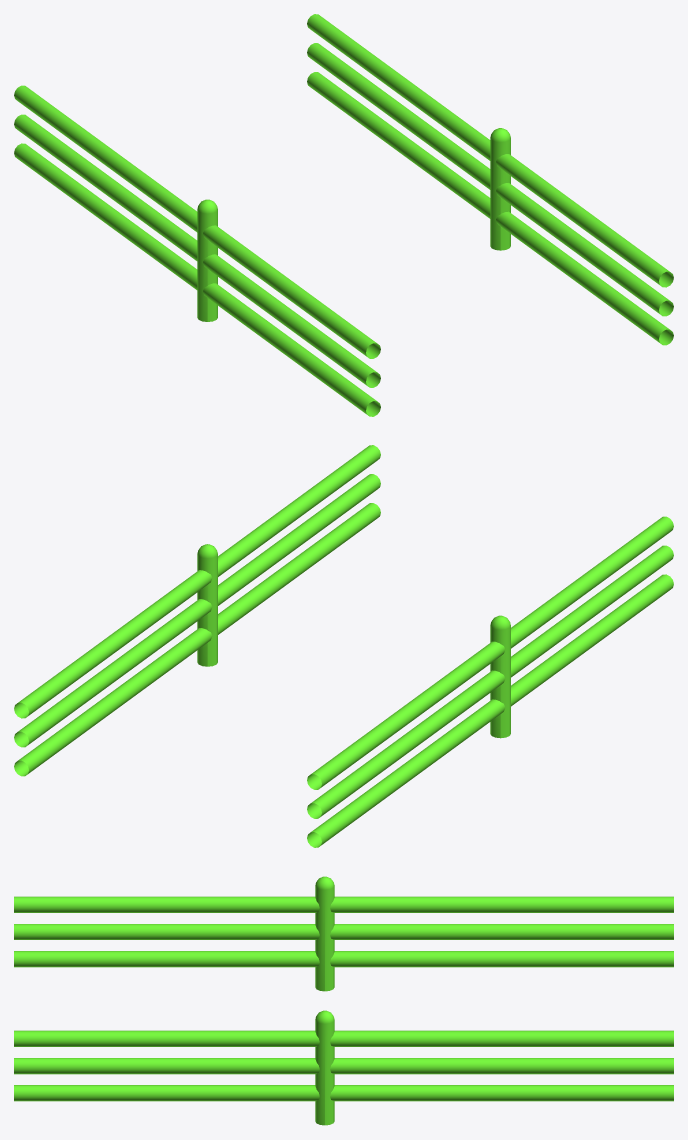
The model's file is Rail_Middle.fbx.
3 views of the same model, one above another, from view 1: azimuth 30°, elevation 25°; view 2: azimuth 150°, elevation 25°; view 3: azimuth 270°, elevation 25° (orthographic). The views are drawn at different scales.
Parts seen in each view (by area): view 1: Rail_Middle; view 2: Rail_Middle; view 3: Rail_Middle.
Boxes of the visible parts, x1,y1,x2,y2 form: Rail_Middle: (14, 14, 673, 416); Rail_Middle: (14, 445, 673, 847); Rail_Middle: (14, 876, 673, 1125).
Size of the model in its own units: 377 by 136 by 740.
